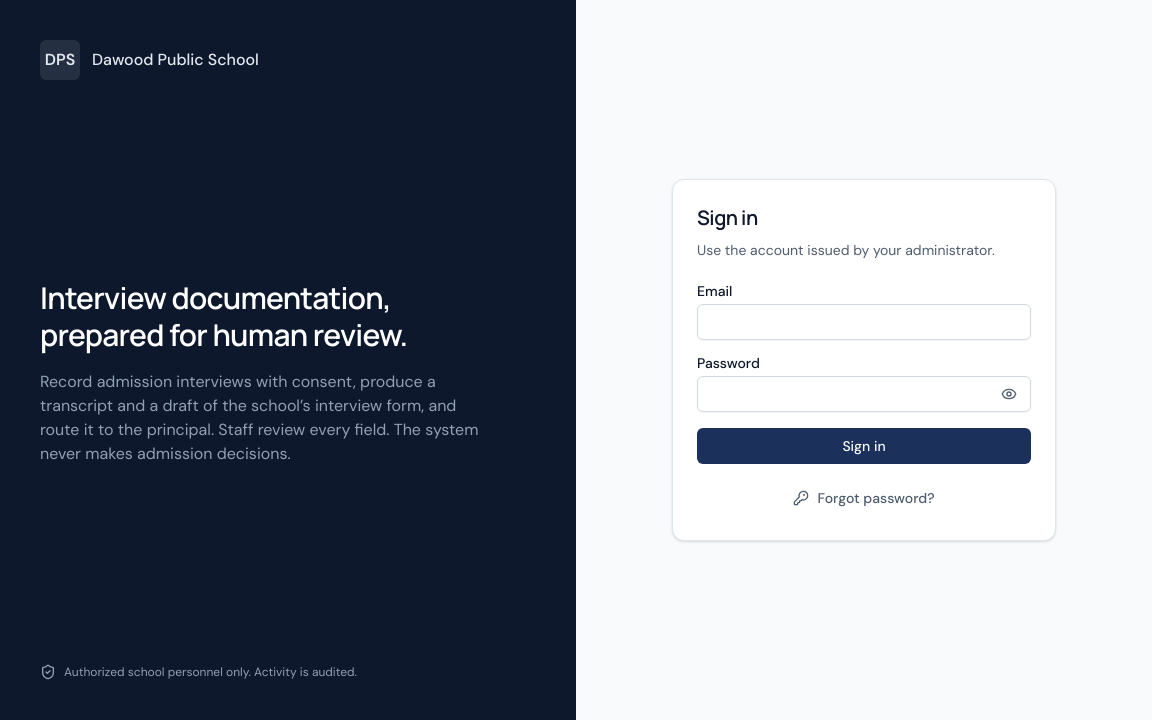
Test: authentication flow › shows a generic message on bad credentials
The width and height of the screenshot is (1152, 720).
Type "someone@dps.example.com" into the field labelled "Email". click: (864, 322)
box: [697,304,1031,340]
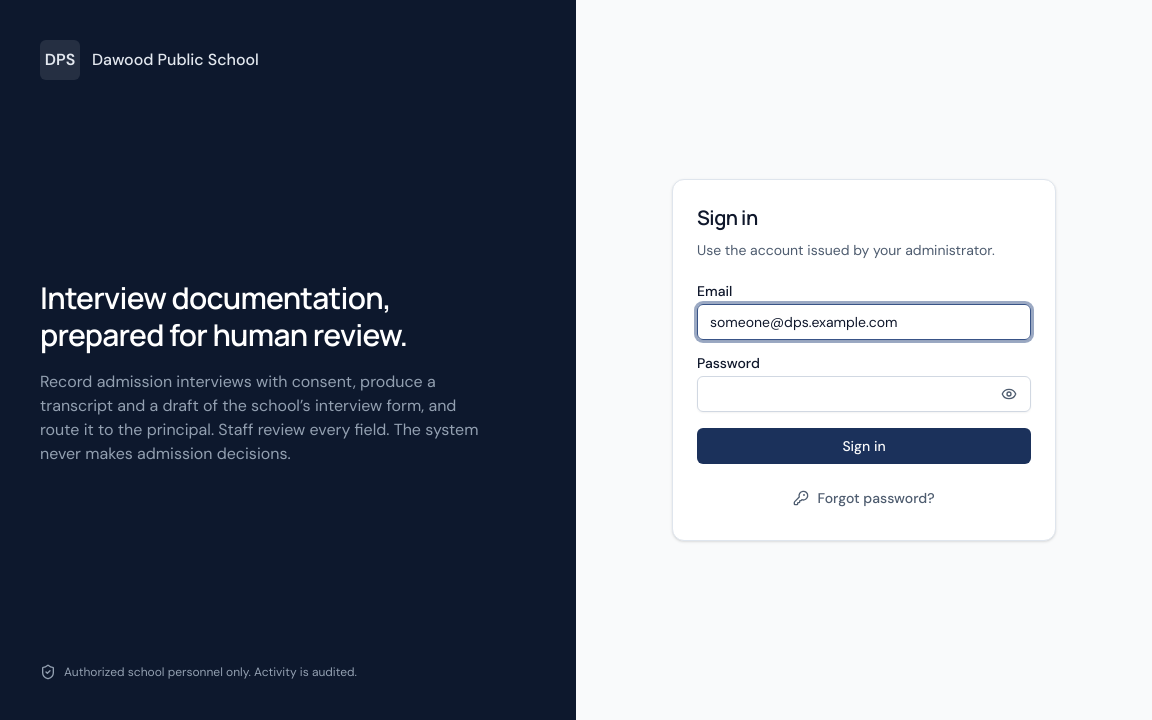
Type "wrong-password" into the password field labelled "Password". click: (864, 394)
box: [697,376,1031,412]
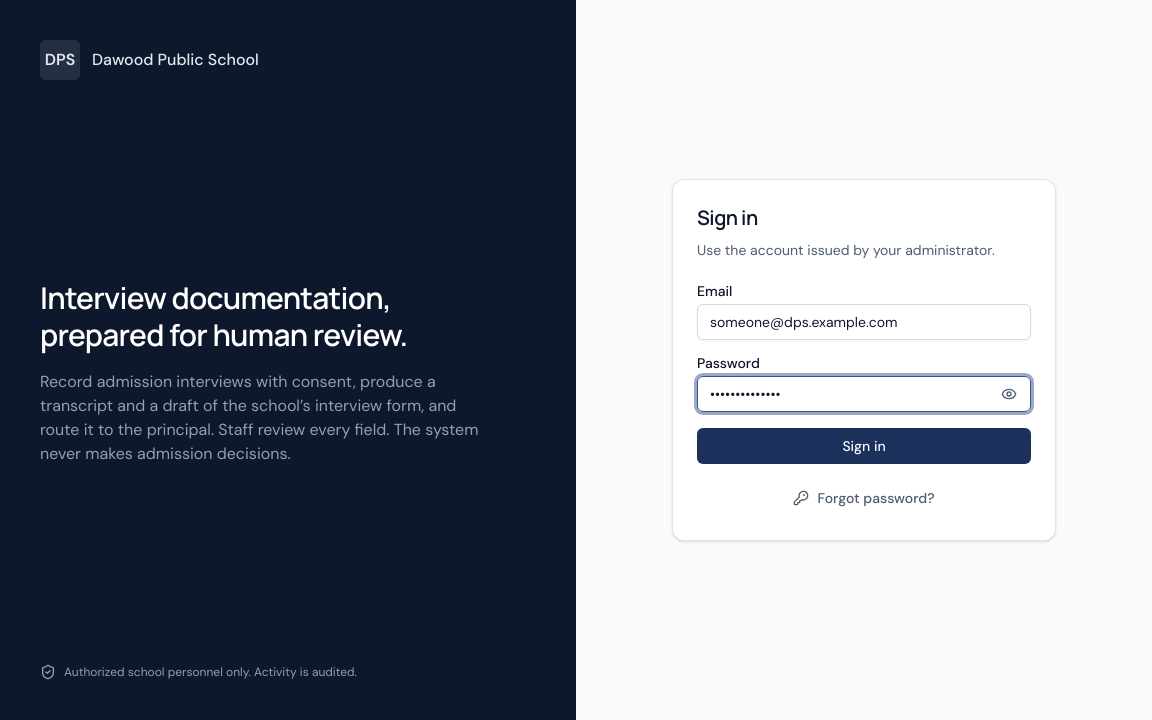
Click the button "Sign in". click: (864, 446)
box: [697,428,1031,464]
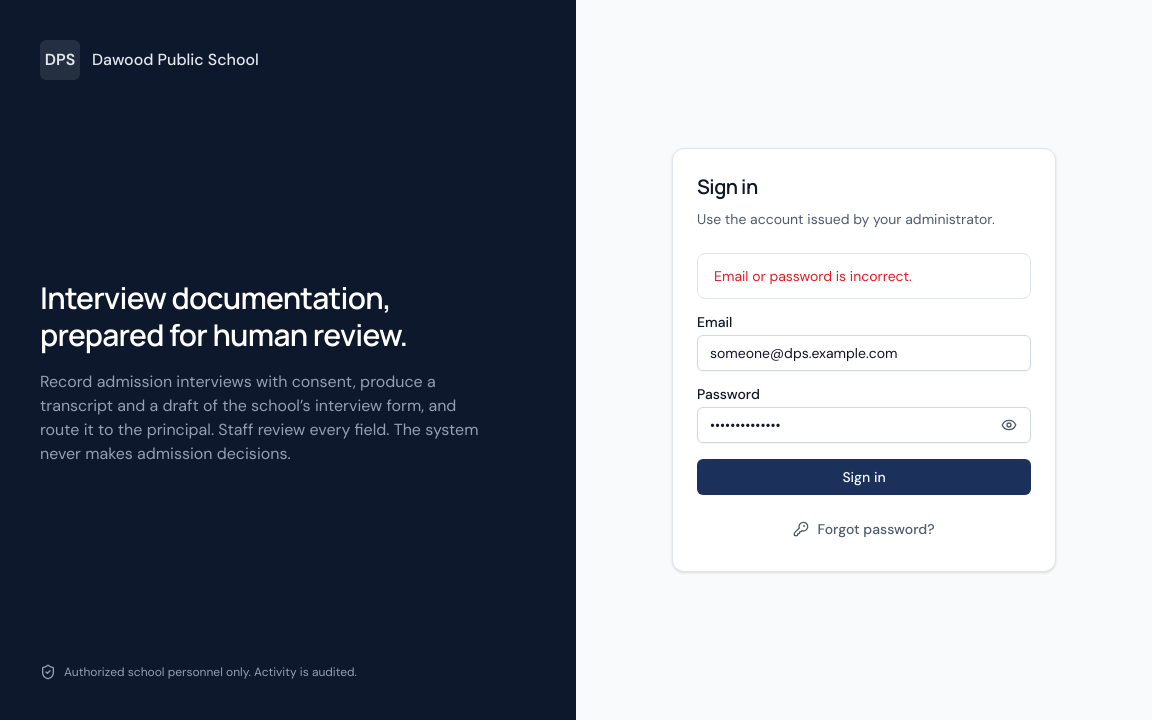
Expected: the message shows "Email or password is incorrect", [714,267,912,285]
